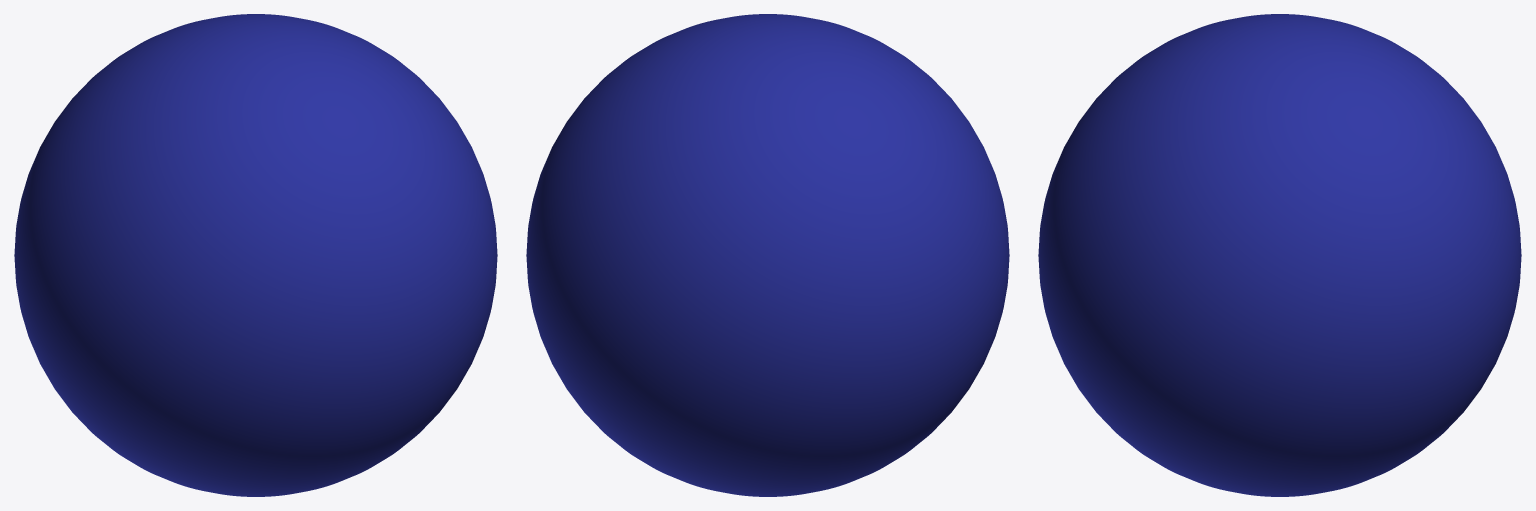
The model's file is marble_blue.gltf.
3 renders of one model, left to right at view 1: azimuth 30°, elevation 25°; view 2: azimuth 150°, elevation 25°; view 3: azimuth 270°, elevation 25°, orthographic.
Visible parts, largest first — view 1: Sphere; view 2: Sphere; view 3: Sphere.
Part boxes in pixels (bbox=[...]): Sphere: bbox=[14, 14, 497, 496]; Sphere: bbox=[526, 14, 1009, 496]; Sphere: bbox=[1038, 14, 1521, 496].
Bounding box in the file's own units: 0.1249 × 0.125 × 0.125.
